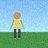person: (11, 12, 24, 37)
